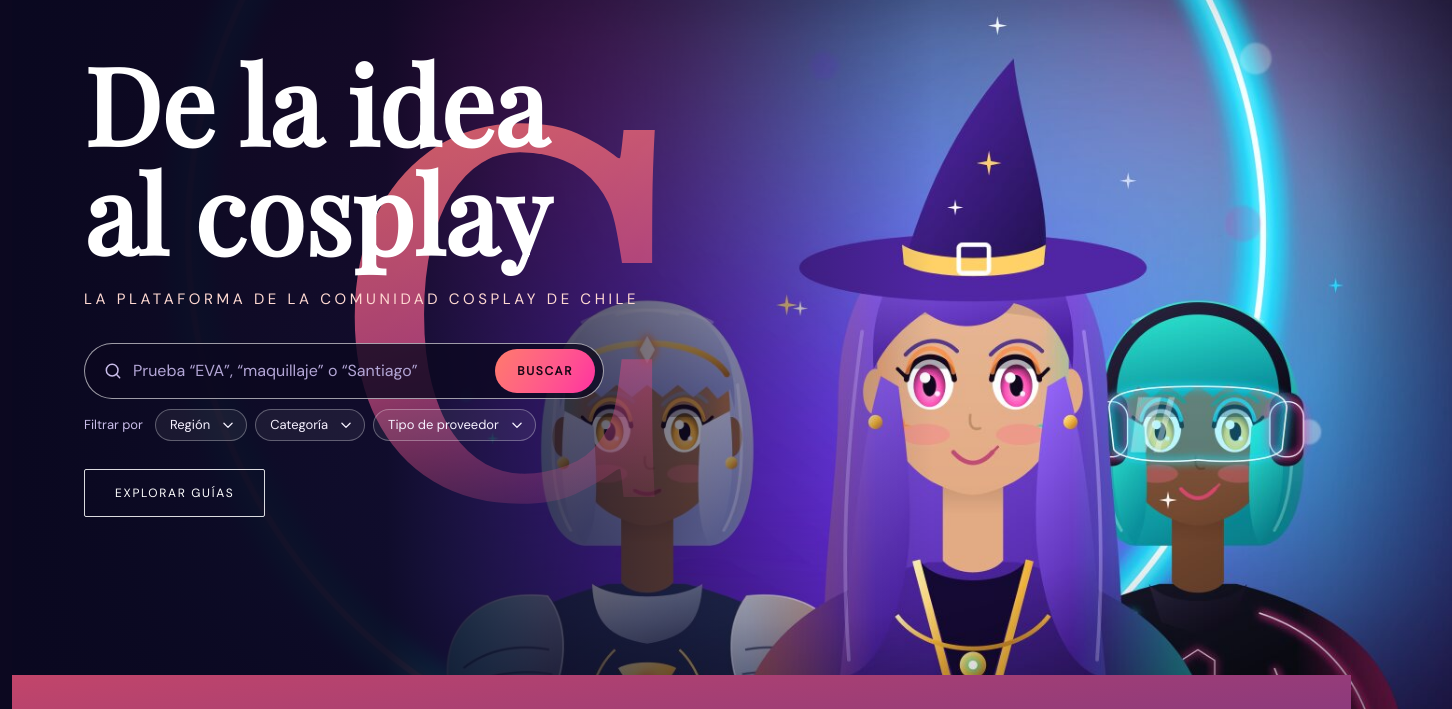
Scenario: Inicio › el filtro rápido por región lleva al directorio filtrado
Select "Valparaíso" in the 1st dropdown named "Filtrar por región" at (201, 425), box [155,409,247,441]
(page scrolled)
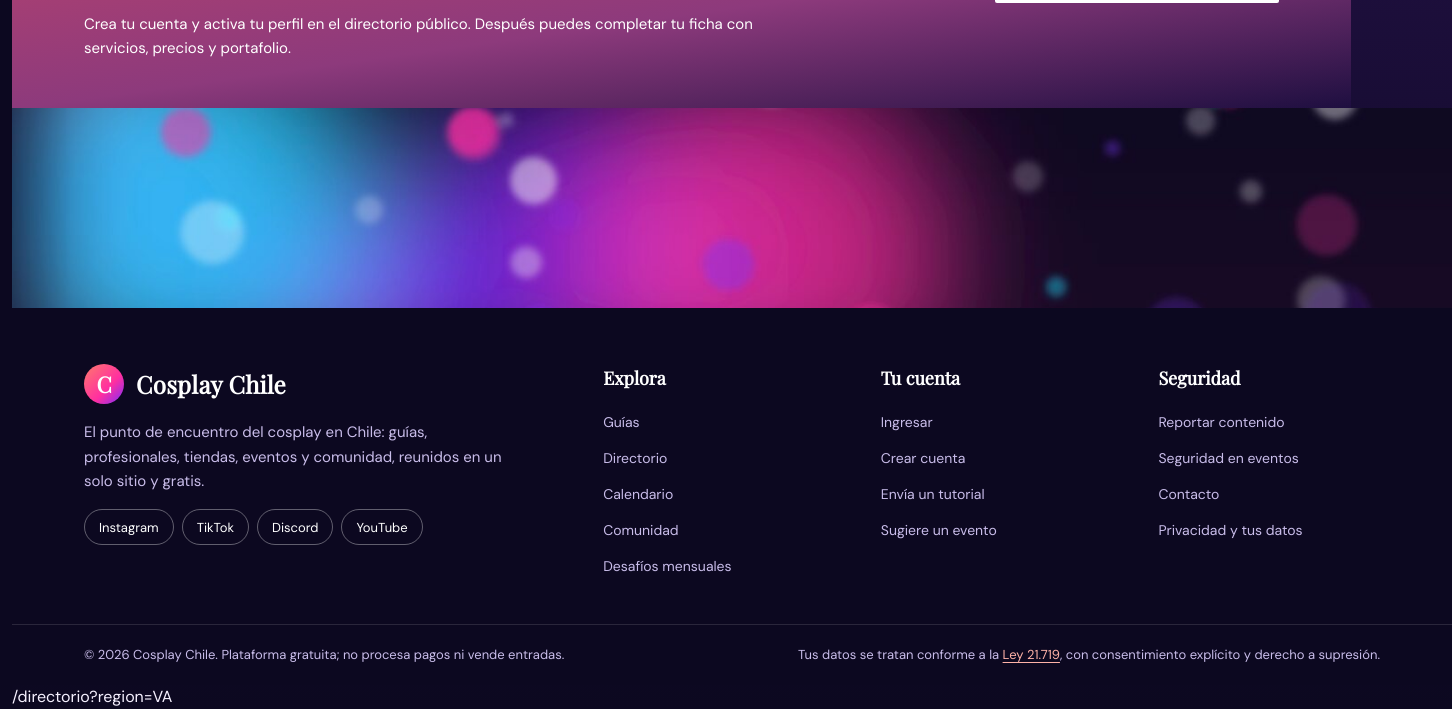
Expected: the text with test id "ubicacion" reads "/directorio?region=VA", [12,686,172,707]
